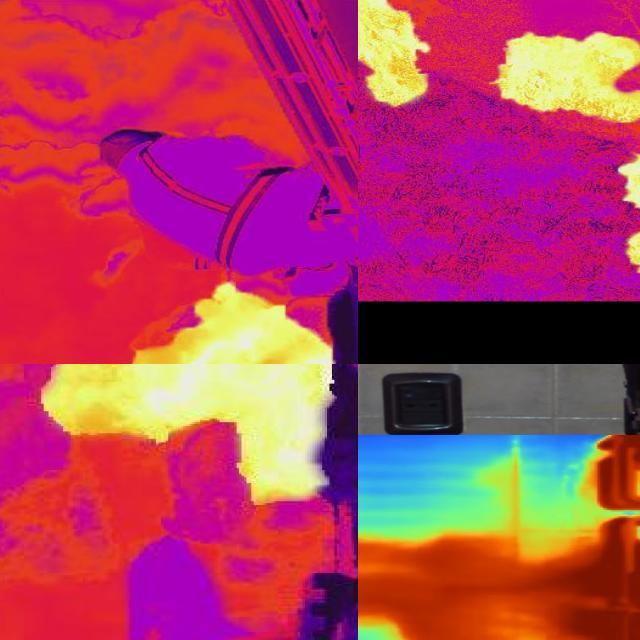fire: (38, 365, 341, 506), (134, 281, 335, 365), (495, 17, 640, 125), (359, 1, 433, 117), (598, 434, 640, 629), (608, 153, 640, 277)
